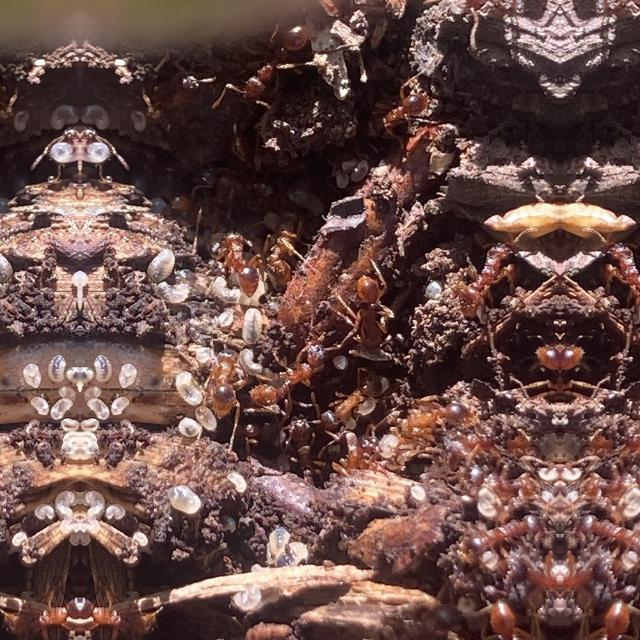Myrmica: (219, 10, 335, 106), (241, 324, 323, 434), (444, 225, 530, 329), (175, 322, 253, 430), (329, 260, 409, 358), (208, 210, 278, 304), (357, 68, 451, 136), (308, 364, 390, 432), (397, 380, 477, 446), (590, 225, 640, 329), (439, 419, 513, 477), (81, 584, 153, 640), (7, 584, 79, 640), (475, 584, 545, 640), (272, 204, 318, 288), (574, 584, 640, 638), (453, 514, 542, 554), (464, 458, 546, 500), (517, 324, 559, 394), (561, 324, 603, 394), (574, 456, 640, 499), (512, 555, 560, 609), (560, 555, 608, 609), (576, 514, 640, 552), (606, 419, 640, 477)
